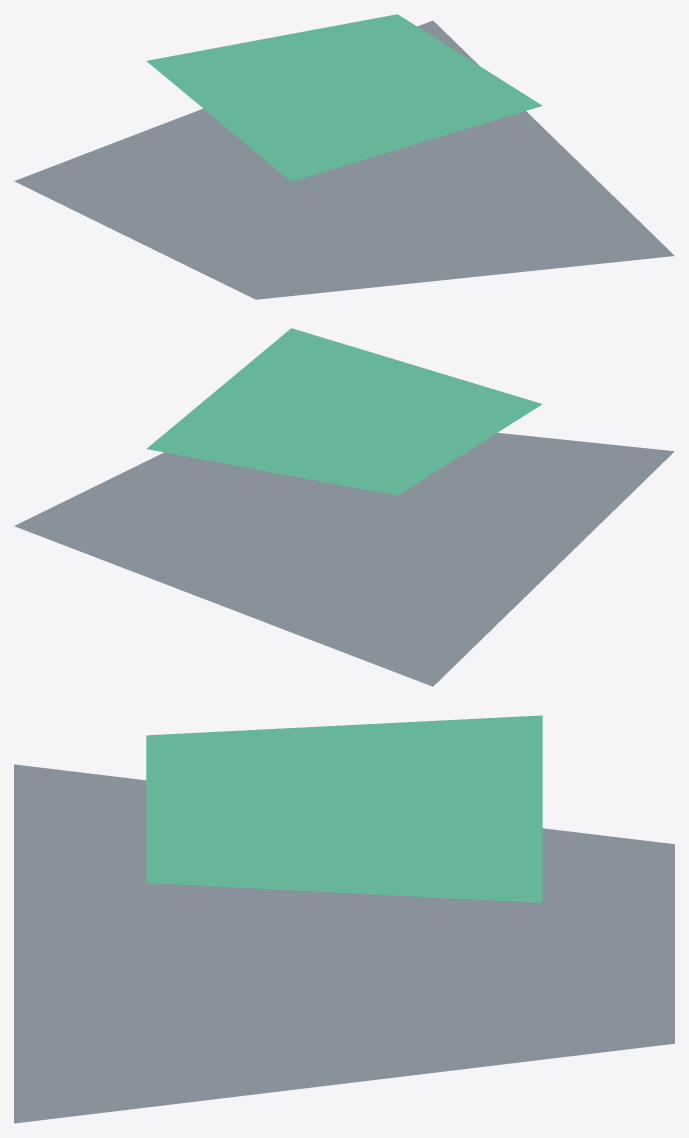
File: CO_NavalYard_LOD2.glb
3 renders of one model, top to bottom at view 1: azimuth 30°, elevation 25°; view 2: azimuth 150°, elevation 25°; view 3: azimuth 270°, elevation 25°, orthographic. The views are drawn at different scales.
Parts seen in each view (by area): view 1: EntranceGate; view 2: EntranceGate; view 3: EntranceGate.
Part boxes in pixels (<box>): EntranceGate: <box>14,14,674,299</box>; EntranceGate: <box>14,328,674,686</box>; EntranceGate: <box>14,715,674,1123</box>.
Size of the model in its own units: 1000 by 308 by 1000.
